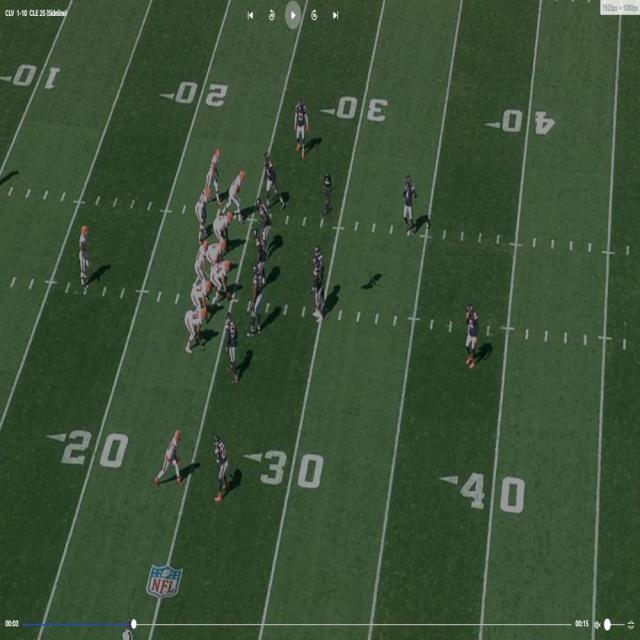center: (215, 258, 234, 305)
db: (216, 438, 231, 495), (468, 304, 480, 368), (403, 176, 416, 235), (297, 100, 308, 152)
lb: (263, 152, 280, 208), (310, 258, 324, 322), (225, 310, 238, 377), (312, 244, 324, 257)
qb: (196, 240, 210, 281)
skill: (160, 429, 182, 486), (194, 188, 212, 234), (79, 222, 91, 280), (232, 172, 244, 224), (206, 147, 220, 191)
